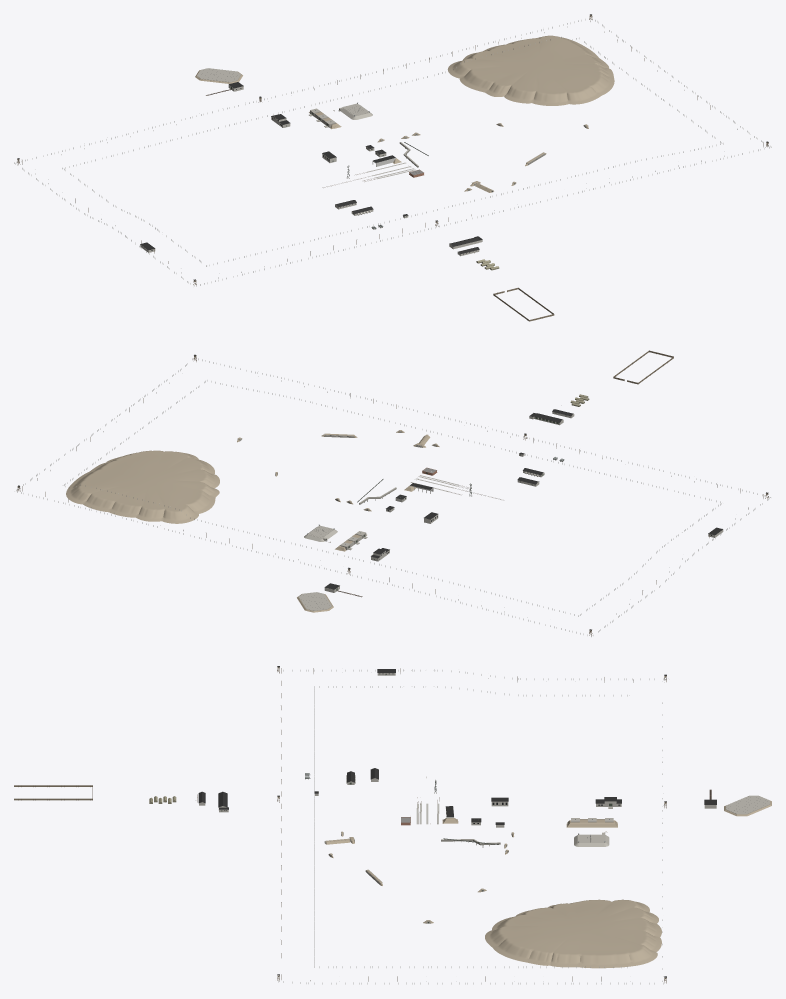
The picture shows the model from 3 angles, top to bottom: view 1: azimuth 30°, elevation 25°; view 2: azimuth 150°, elevation 25°; view 3: azimuth 270°, elevation 25°; orthographic projection. The views are drawn at different scales.
Visible parts, largest first — view 1: SpoilHeap_Earth; view 2: SpoilHeap_Earth; view 3: SpoilHeap_Earth, Site51_ConcretePad.
Boxes of the visible parts, x1,y1,x2,y2 form: SpoilHeap_Earth: [447, 35, 614, 105]; SpoilHeap_Earth: [66, 450, 219, 523]; SpoilHeap_Earth: [485, 899, 661, 968]; Site51_ConcretePad: [726, 795, 769, 814].
Bounding box in the file's own units: 922 × 34.08 × 953.
